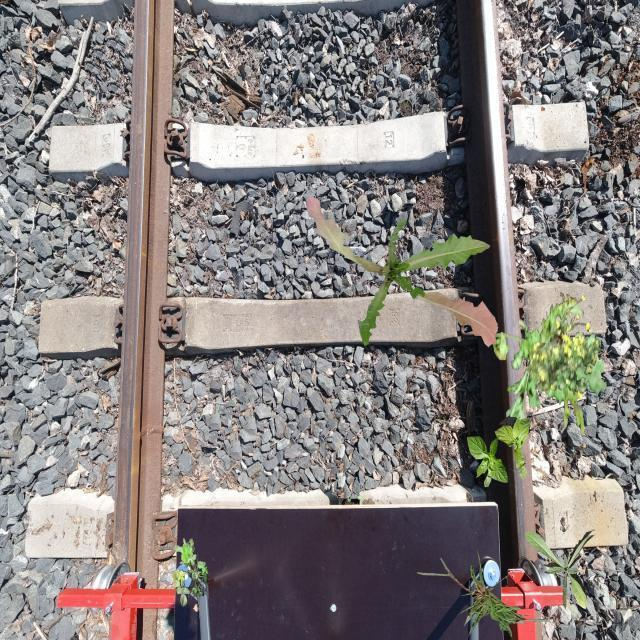Plant: (306, 196, 498, 348), (482, 292, 607, 439), (417, 549, 560, 639), (527, 295, 602, 400), (525, 530, 596, 611), (467, 434, 508, 488), (495, 417, 530, 480), (171, 552, 208, 607), (174, 538, 194, 563)
